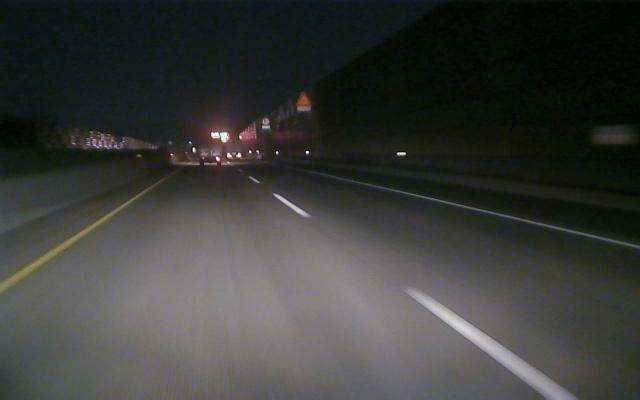lane: (272, 191, 586, 400), (347, 179, 640, 249), (2, 192, 143, 291)
